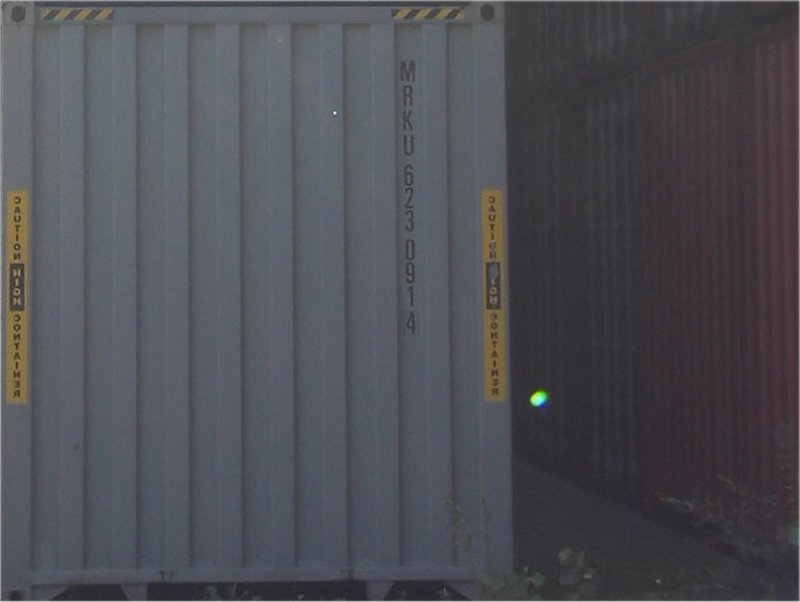container_no_door: (4, 3, 512, 595)
